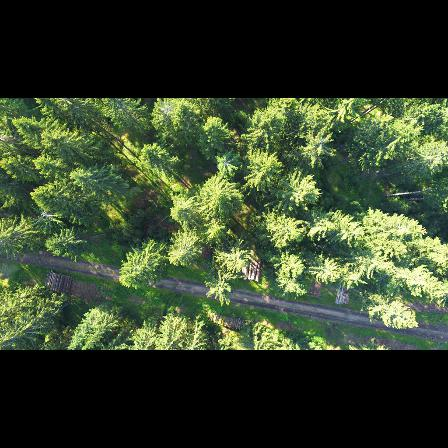Sick: (32, 204, 64, 230), (212, 150, 242, 176)
